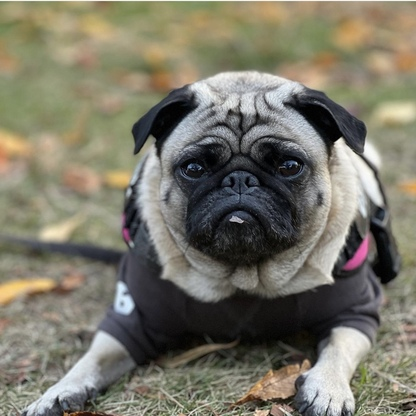Pug: (14, 65, 402, 416)
